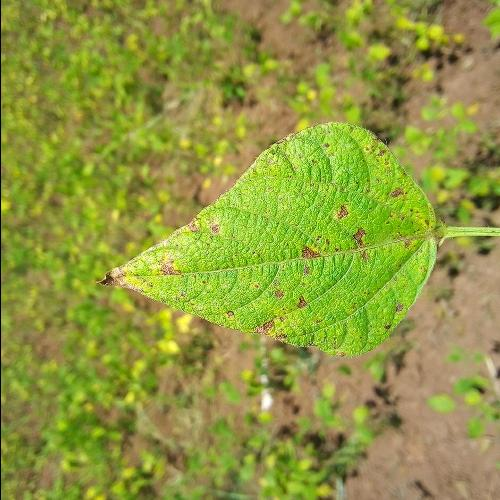hawar: (353, 130, 438, 272), (92, 247, 184, 313), (215, 283, 308, 347), (324, 196, 390, 274), (280, 239, 334, 274), (177, 207, 227, 244), (374, 292, 412, 340)
